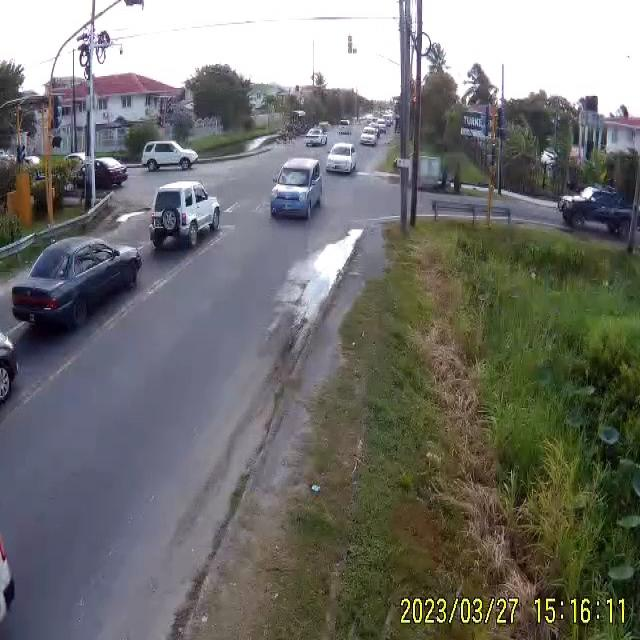car: (12, 237, 142, 337), (150, 181, 222, 250), (270, 156, 323, 219), (562, 190, 635, 234), (73, 158, 128, 190), (140, 141, 197, 171), (325, 143, 357, 175), (304, 130, 326, 148), (360, 129, 378, 146)
